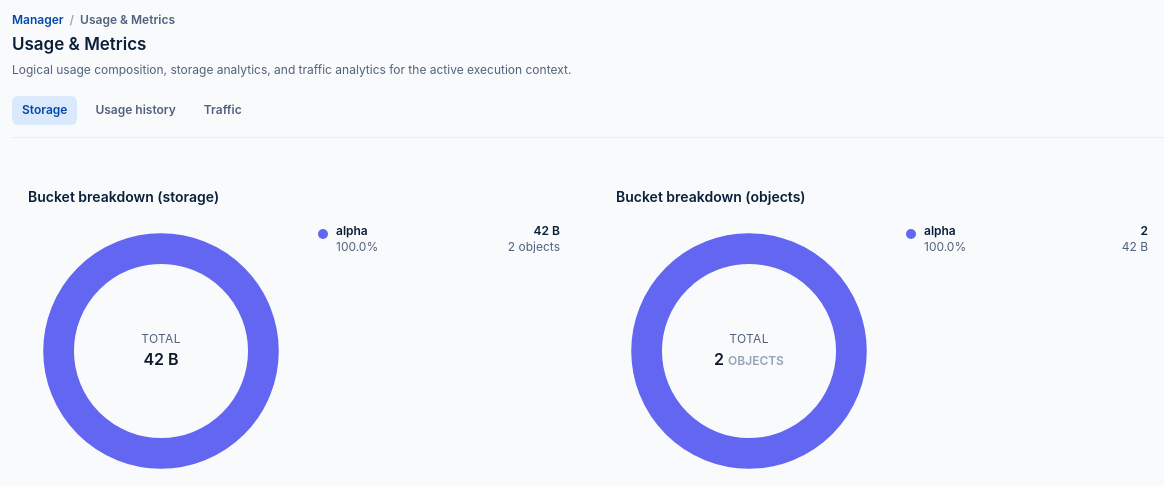
Test case: ManagerMetricsPage › shows usage history unavailable copy for private connection contexts
Click the tab "Usage history" at (136, 110), box [85,96,186,124]
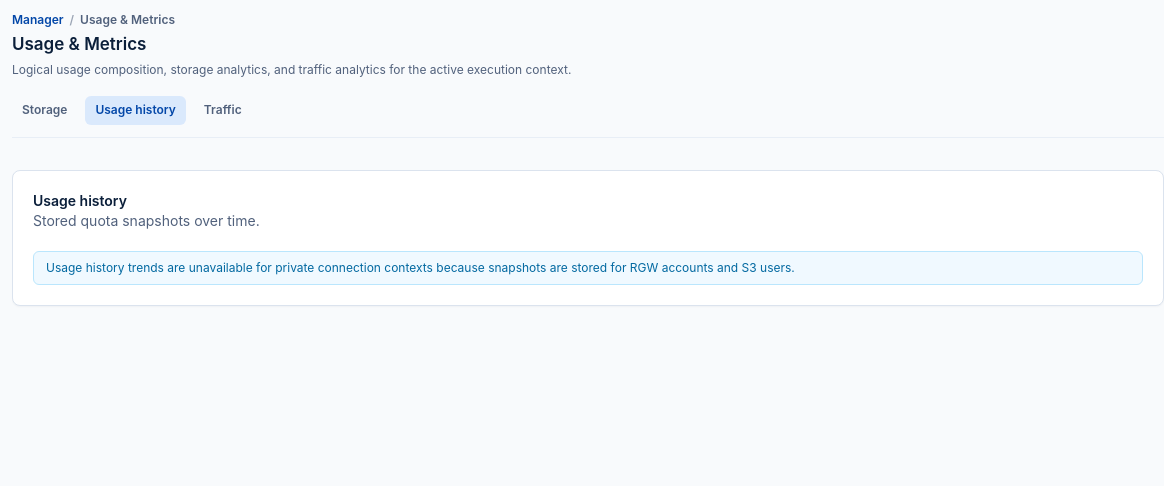
Check: the text "private connection contexts" is shown, box [46,260,795,275]
